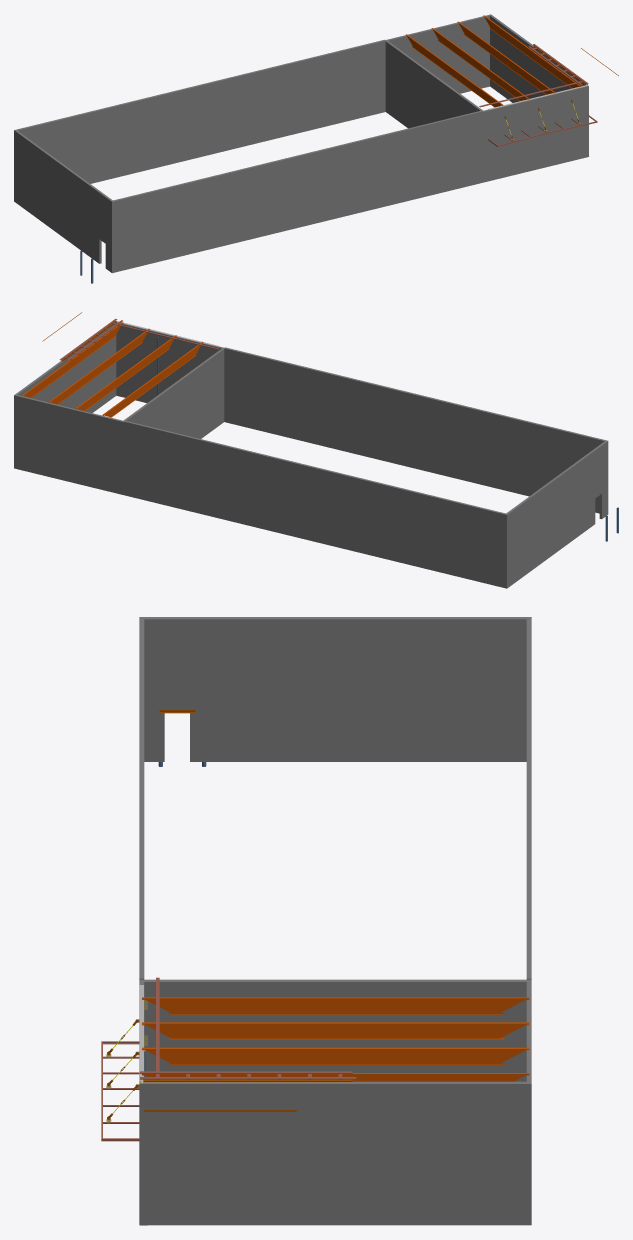
File: Canopy.glb
3 renders of one model, top to bottom at view 1: azimuth 30°, elevation 25°; view 2: azimuth 150°, elevation 25°; view 3: azimuth 270°, elevation 25°, orthographic. The views are drawn at different scales.
Parts seen in each view (by area): view 1: Mesh 18337, Mesh 110, Mesh 6495, Mesh 6511, Mesh 6479, Mesh 6450; view 2: Mesh 18337, Mesh 110, Mesh 6495, Mesh 6479, Mesh 6511, Mesh 6450; view 3: Mesh 110, Mesh 18337, Mesh 6479, Mesh 6495, Mesh 6511, Mesh 6450.
Part boxes in pixels (x1,y1,x2,y2): Mesh 18337: [14, 39, 482, 273]; Mesh 110: [385, 14, 588, 182]; Mesh 6495: [431, 28, 529, 100]; Mesh 6511: [406, 34, 503, 107]; Mesh 6479: [457, 21, 554, 94]; Mesh 6450: [483, 15, 580, 88]; Mesh 18337: [124, 347, 608, 588]; Mesh 110: [14, 322, 224, 494]; Mesh 6495: [76, 335, 176, 411]; Mesh 6479: [49, 328, 149, 404]; Mesh 6511: [102, 341, 203, 417]; Mesh 6450: [22, 322, 123, 397]; Mesh 110: [139, 979, 531, 1225]; Mesh 18337: [139, 617, 531, 979]; Mesh 6479: [142, 1047, 529, 1064]; Mesh 6495: [142, 1022, 529, 1039]; Mesh 6511: [142, 997, 529, 1014]; Mesh 6450: [142, 1073, 529, 1081].
Size of the model in its own units: 48.4 by 7.39 by 17.23.
